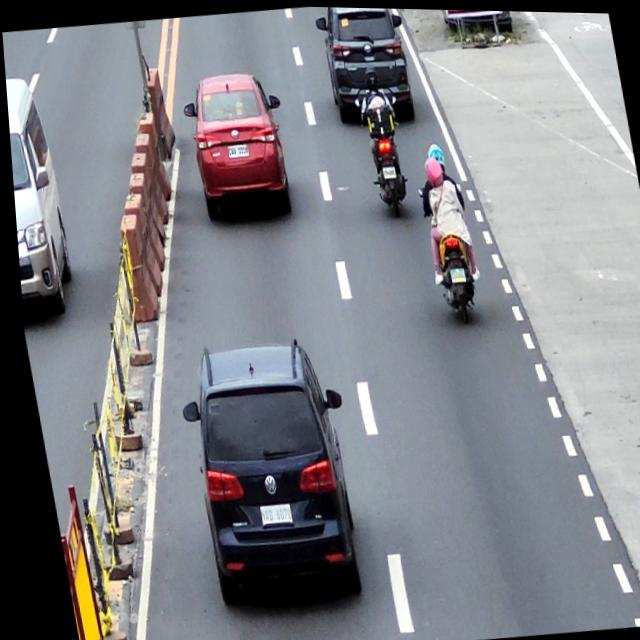Car: (164, 332, 368, 612), (177, 67, 298, 224), (4, 74, 75, 318), (312, 5, 419, 127)
License-Plate: (251, 503, 285, 526), (224, 143, 247, 157), (445, 265, 462, 281), (379, 163, 394, 178)
Motorcycle: (415, 180, 479, 326), (354, 91, 413, 220)
